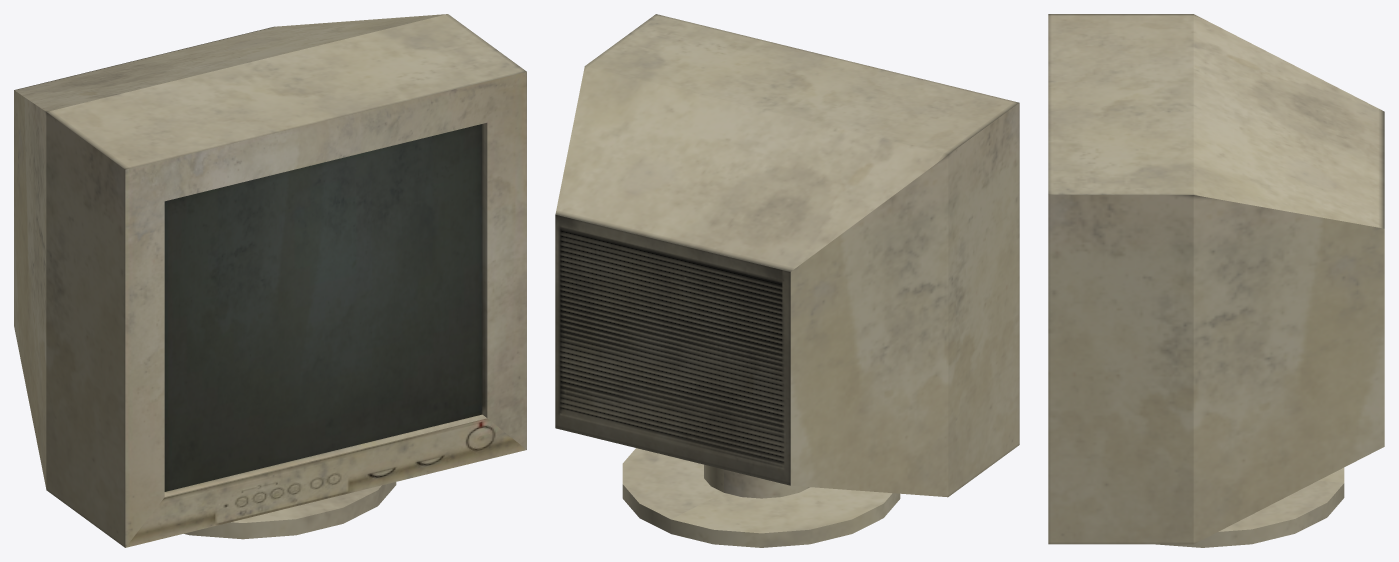
The model's file is Monitor.FBX.
The picture shows the model from 3 angles, left to right: view 1: azimuth 30°, elevation 25°; view 2: azimuth 150°, elevation 25°; view 3: azimuth 270°, elevation 25°; orthographic projection. The views are drawn at different scales.
Parts seen in each view (by area): view 1: Monitor; view 2: Monitor; view 3: Monitor.
Boxes of the visible parts, box(x1,y1,x2,y2) form: Monitor: box(14, 14, 526, 547); Monitor: box(555, 14, 1019, 547); Monitor: box(1048, 14, 1384, 547).
Size of the model in its own units: 78.74 by 77.58 by 61.86.
